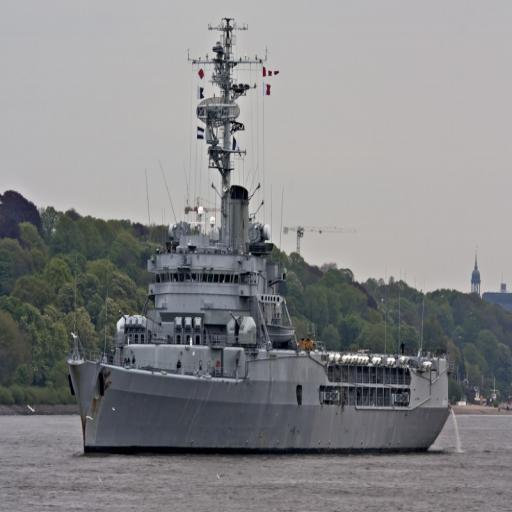Portanaves: (65, 2, 461, 465)
